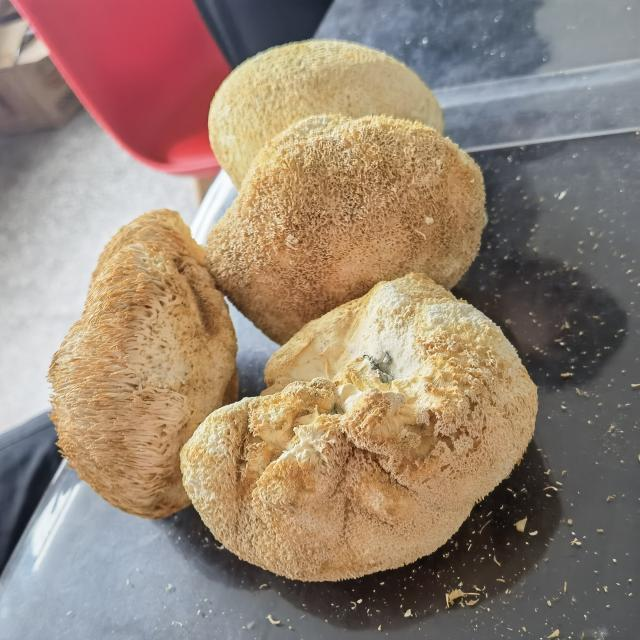Hericium erinaceus: (186, 273, 535, 583), (199, 44, 491, 333), (53, 208, 232, 516)
